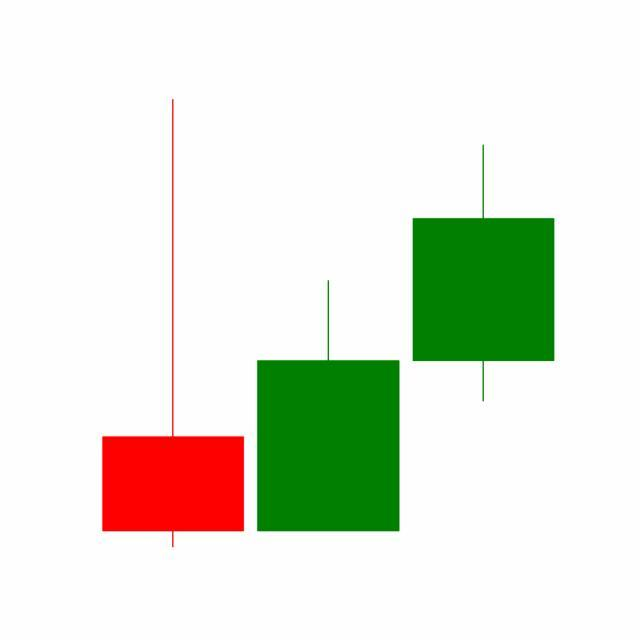Marubozu: (406, 142, 562, 405)
